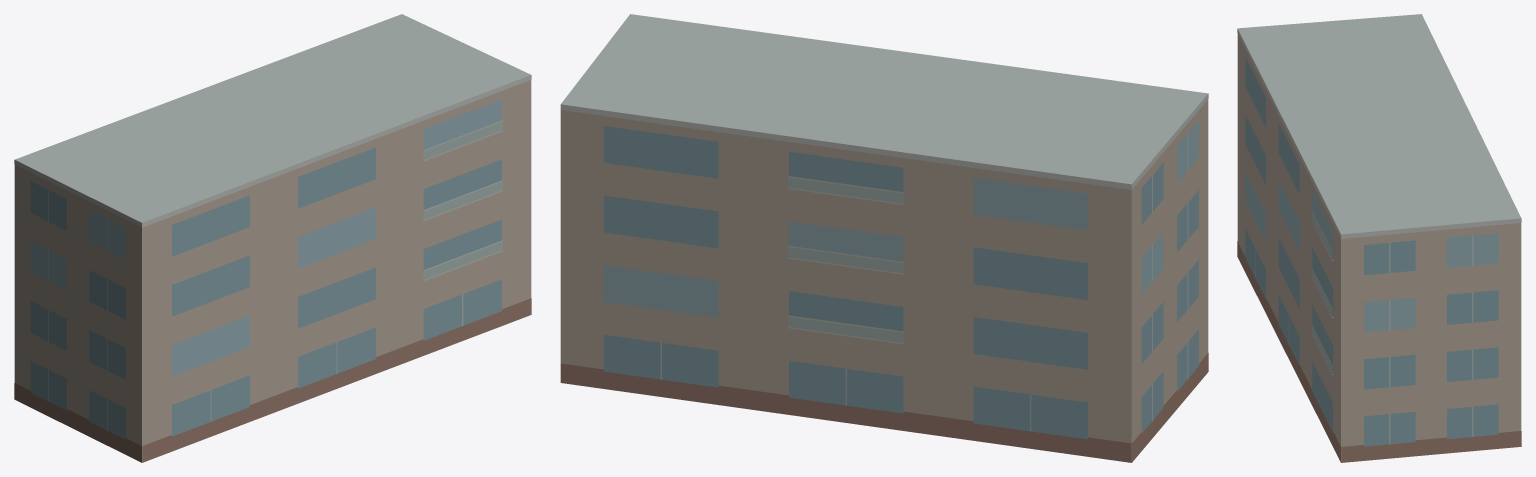
File: survey-upis-33028898.glb
3 renders of one model, left to right at view 1: azimuth 30°, elevation 25°; view 2: azimuth 150°, elevation 25°; view 3: azimuth 270°, elevation 25°, orthographic. The views are drawn at different scales.
Visible parts, largest first — view 1: survey-upis-33028898.tmp; view 2: survey-upis-33028898.tmp; view 3: survey-upis-33028898.tmp.
Part boxes in pixels (<box>): survey-upis-33028898.tmp: <box>14,14,531,462</box>; survey-upis-33028898.tmp: <box>560,14,1208,462</box>; survey-upis-33028898.tmp: <box>1237,14,1521,462</box>.
Bounding box in the file's own units: 25.05 × 12.1 × 13.64.
